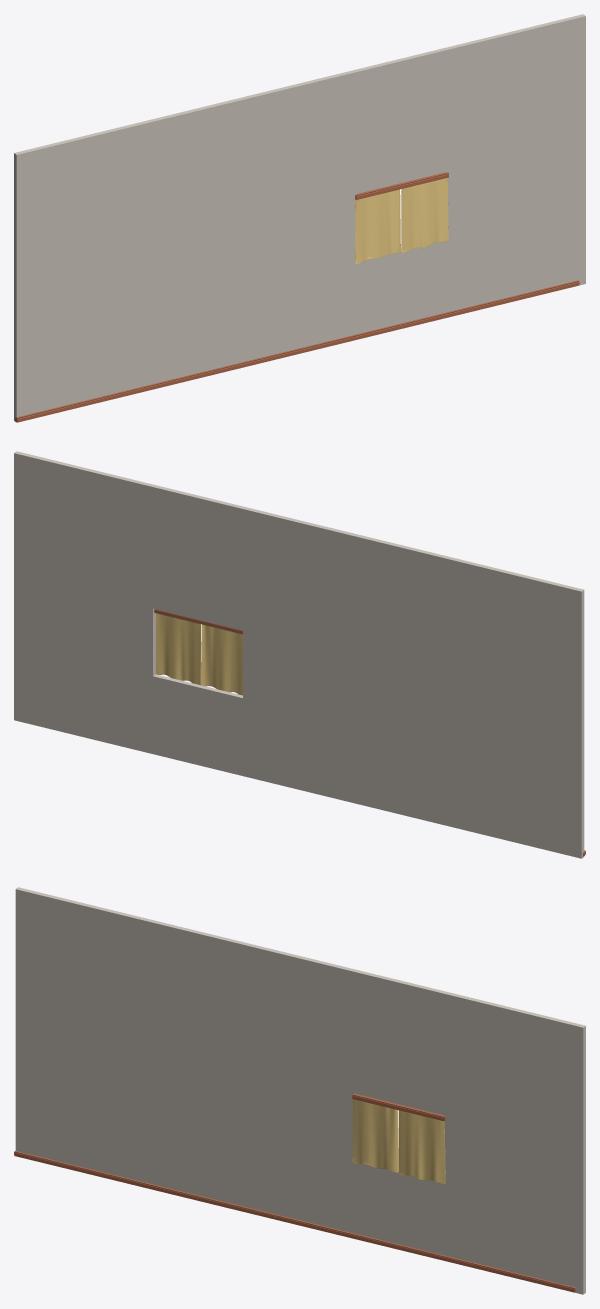
Rendered from ParedeJanela.fbx.
3 renders of one model, top to bottom at view 1: azimuth 30°, elevation 25°; view 2: azimuth 150°, elevation 25°; view 3: azimuth 330°, elevation 25°, orthographic.
Visible parts, largest first — view 1: Cube.009, Cube.045, Cube.054, Cube.053, Cube.049; view 2: Cube.009, Cube.054, Cube.053; view 3: Cube.009, Cube.045, Cube.054, Cube.053, Cube.049.
Part boxes in pixels (x1=…): Cube.009: x1=14, y1=14, x2=585, y2=422; Cube.045: x1=15, y1=280, x2=579, y2=422; Cube.054: x1=401, y1=178, x2=448, y2=252; Cube.053: x1=355, y1=189, x2=400, y2=263; Cube.049: x1=355, y1=172, x2=448, y2=199; Cube.009: x1=14, y1=451, x2=584, y2=858; Cube.054: x1=156, y1=613, x2=200, y2=684; Cube.053: x1=200, y1=624, x2=242, y2=695; Cube.009: x1=15, y1=887, x2=585, y2=1294; Cube.045: x1=14, y1=1151, x2=575, y2=1292; Cube.054: x1=399, y1=1110, x2=445, y2=1184; Cube.053: x1=352, y1=1099, x2=398, y2=1172; Cube.049: x1=352, y1=1093, x2=445, y2=1121.
Size of the model in its own units: 1177 by 529 by 14.64.
